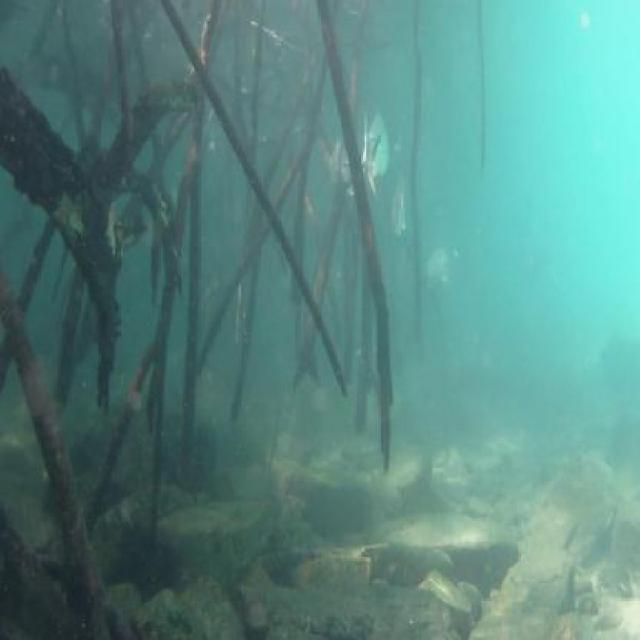Caranx_sexfasciatus_juvenile: (332, 114, 386, 198), (364, 98, 394, 178), (422, 241, 456, 302), (386, 179, 414, 247)
